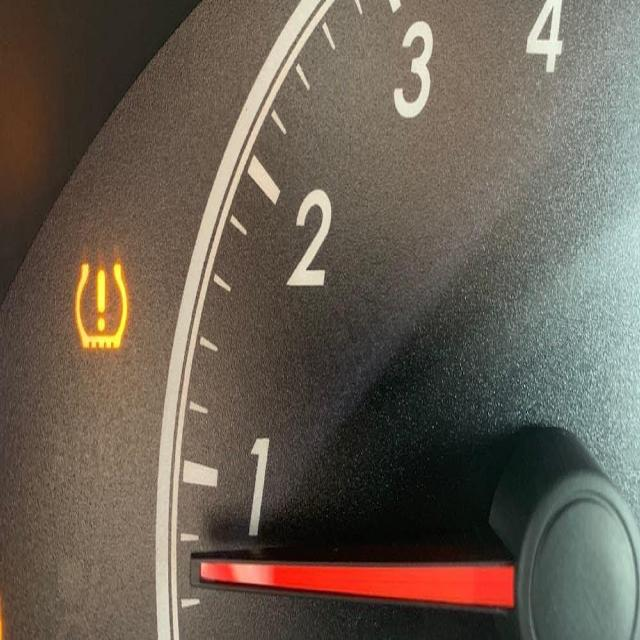kontrolka: (64, 245, 139, 363)
